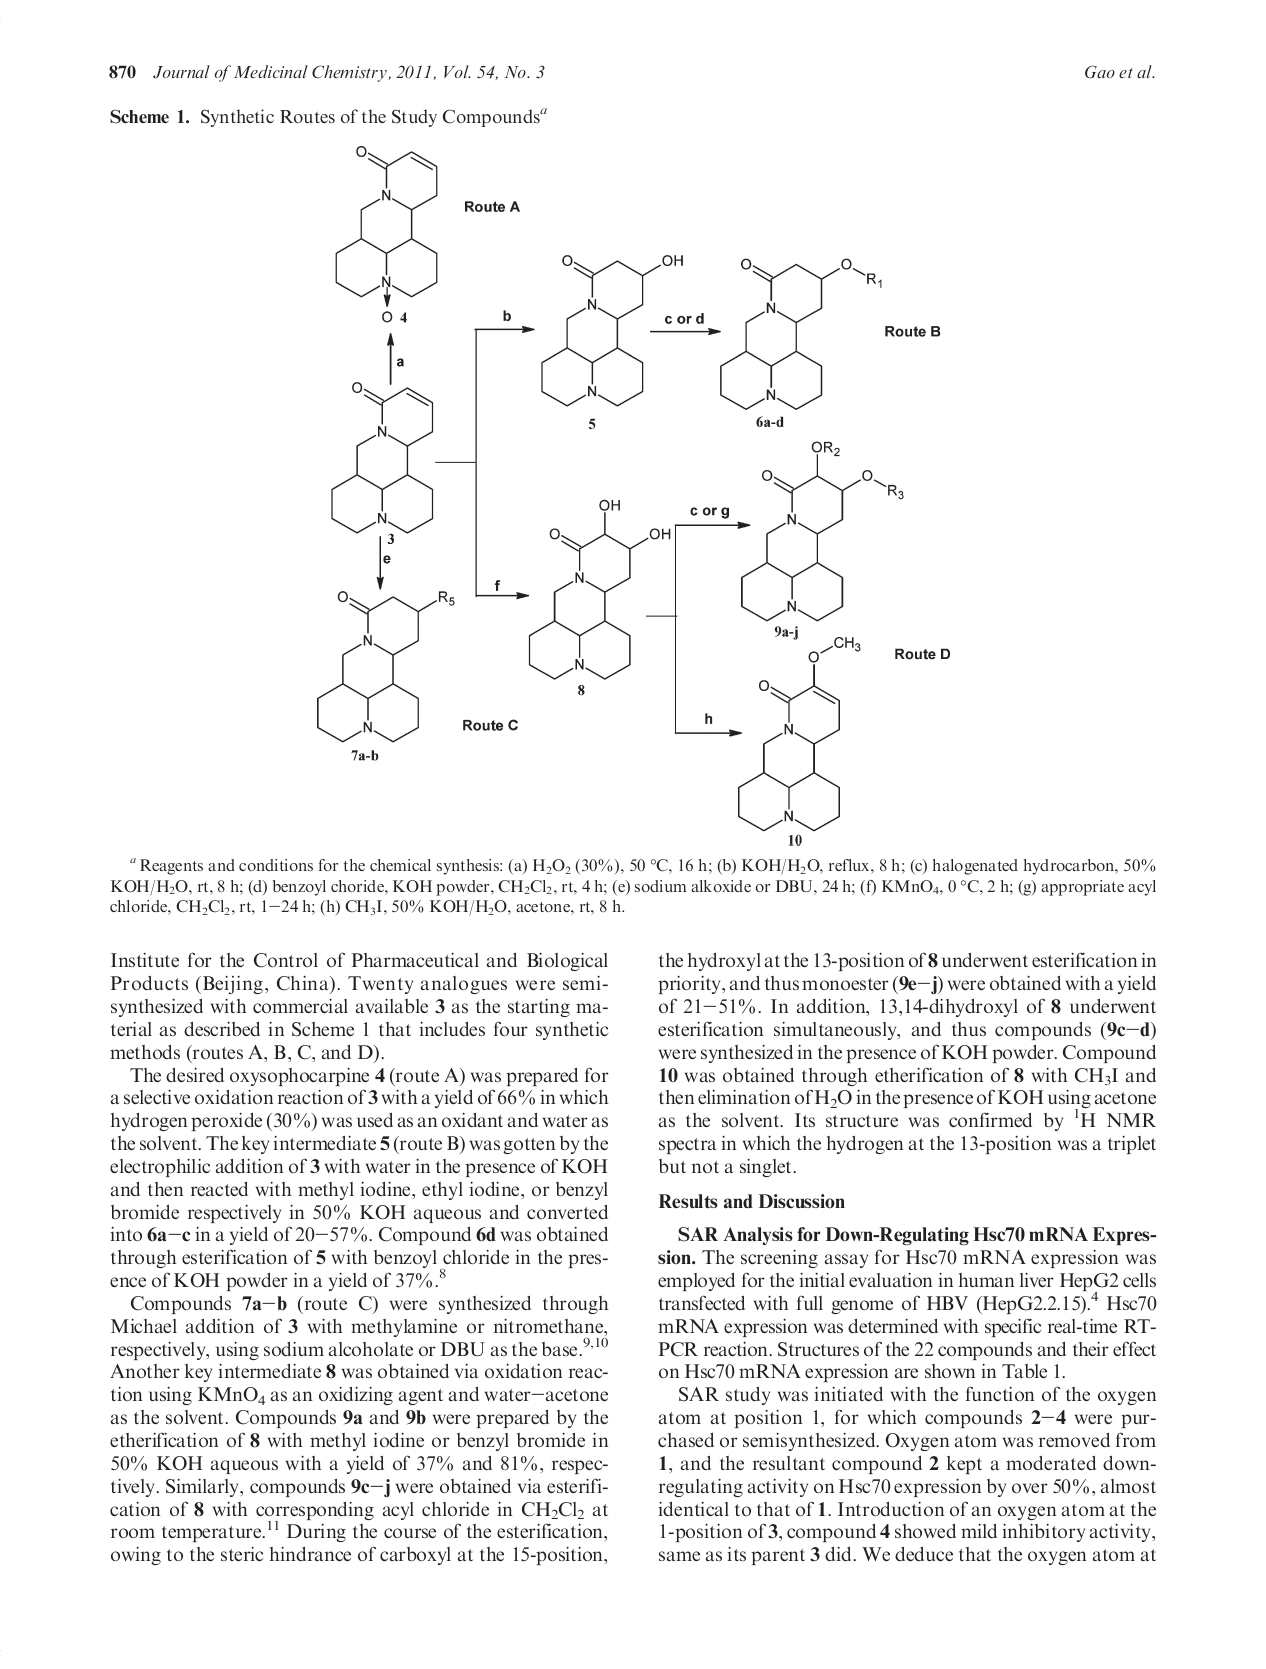exist_molecular: (739, 439, 906, 622), (523, 497, 673, 680), (715, 253, 884, 412), (735, 633, 860, 833), (536, 251, 685, 410), (315, 589, 455, 743), (331, 144, 444, 324), (324, 380, 438, 535)
